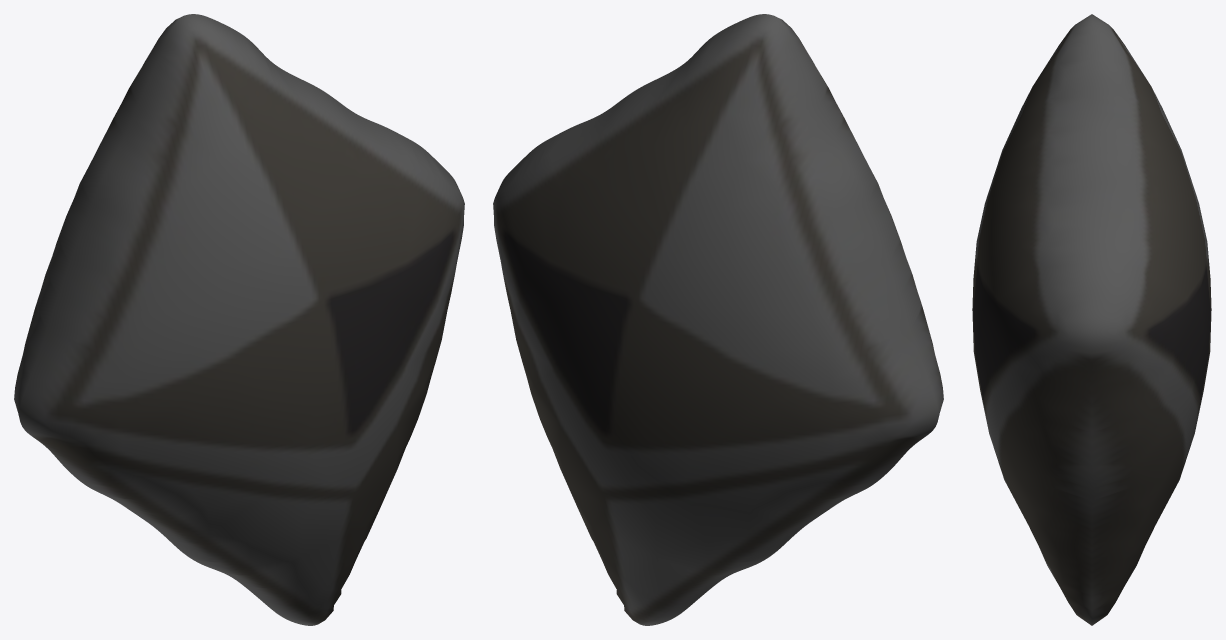
File: ethBig.glb
3 renders of one model, left to right at view 1: azimuth 30°, elevation 25°; view 2: azimuth 150°, elevation 25°; view 3: azimuth 270°, elevation 25°, orthographic. The views are drawn at different scales.
Parts seen in each view (by area): view 1: Mesh_0.004; view 2: Mesh_0.004; view 3: Mesh_0.004.
Boxes of the visible parts, left/top/right/bottom form: Mesh_0.004: left=14, top=14, right=464, bottom=625; Mesh_0.004: left=493, top=14, right=943, bottom=625; Mesh_0.004: left=972, top=14, right=1211, bottom=625.
Bounding box in the file's own units: 54.14 × 75.57 × 29.5.
Materials: 1 (1 with a texture image).
